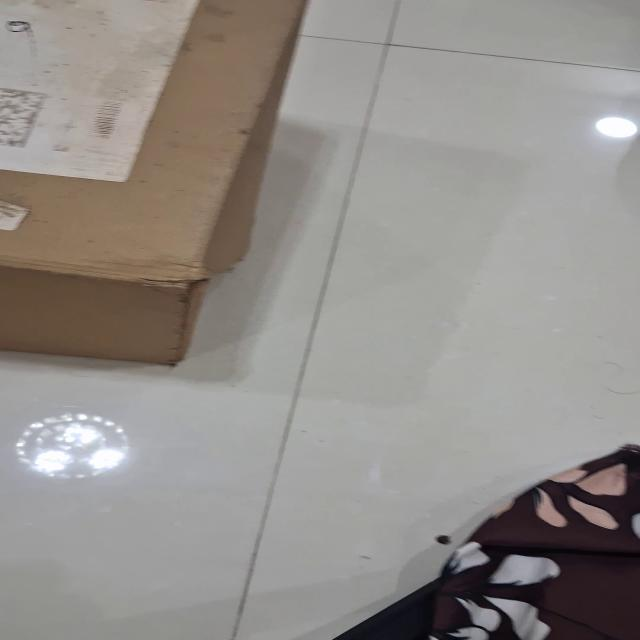paper: (2, 0, 638, 639), (1, 1, 200, 182)
